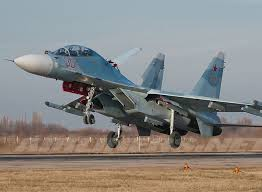maybay_muctieu: (2, 42, 262, 145)
